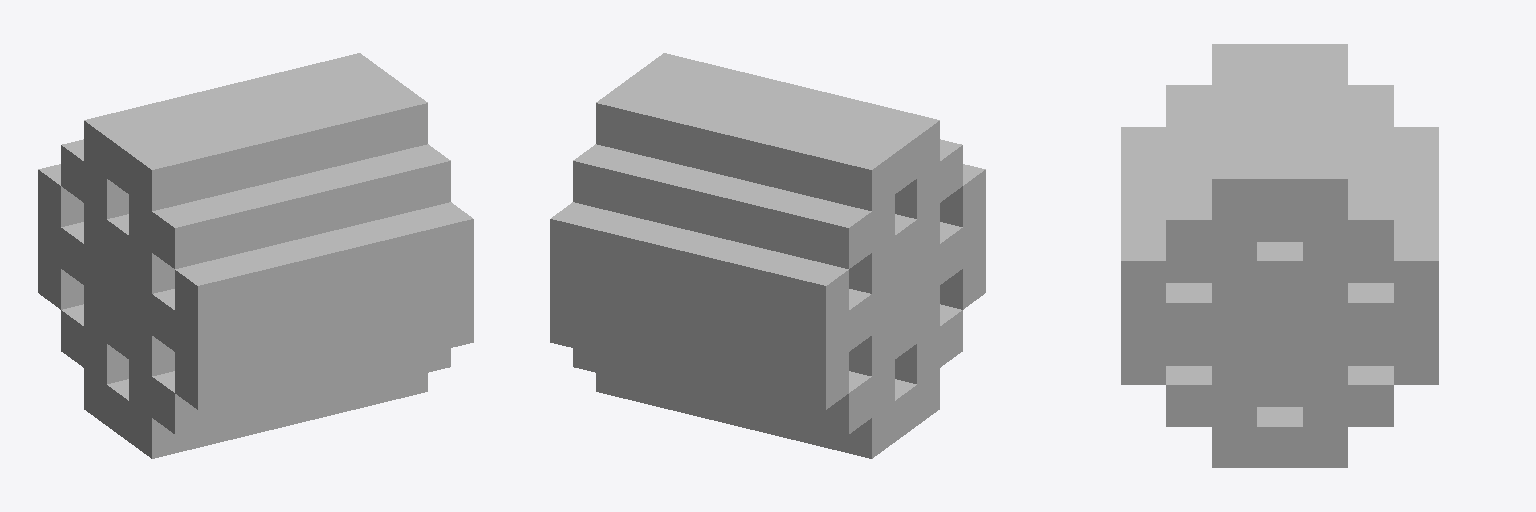
The model's file is Weapons-10-29 cylinder.obj.
3 renders of one model, left to right at view 1: azimuth 30°, elevation 25°; view 2: azimuth 150°, elevation 25°; view 3: azimuth 270°, elevation 25°, orthographic.
Parts seen in each view (by area): view 1: 29 cylinder; view 2: 29 cylinder; view 3: 29 cylinder.
Boxes of the visible parts, box(x1,y1,x2,y2) form: 29 cylinder: box(38, 53, 473, 458); 29 cylinder: box(550, 53, 985, 458); 29 cylinder: box(1121, 44, 1438, 467).
Bounding box in the file's own units: 0.7 × 0.7 × 0.7.